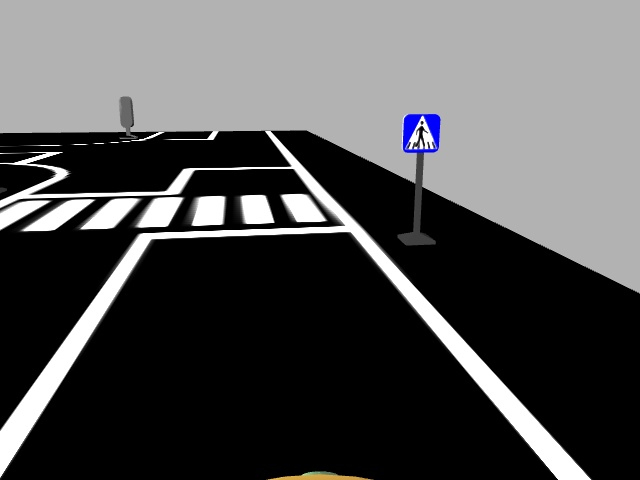Crosswalk: (400, 111, 439, 152)
